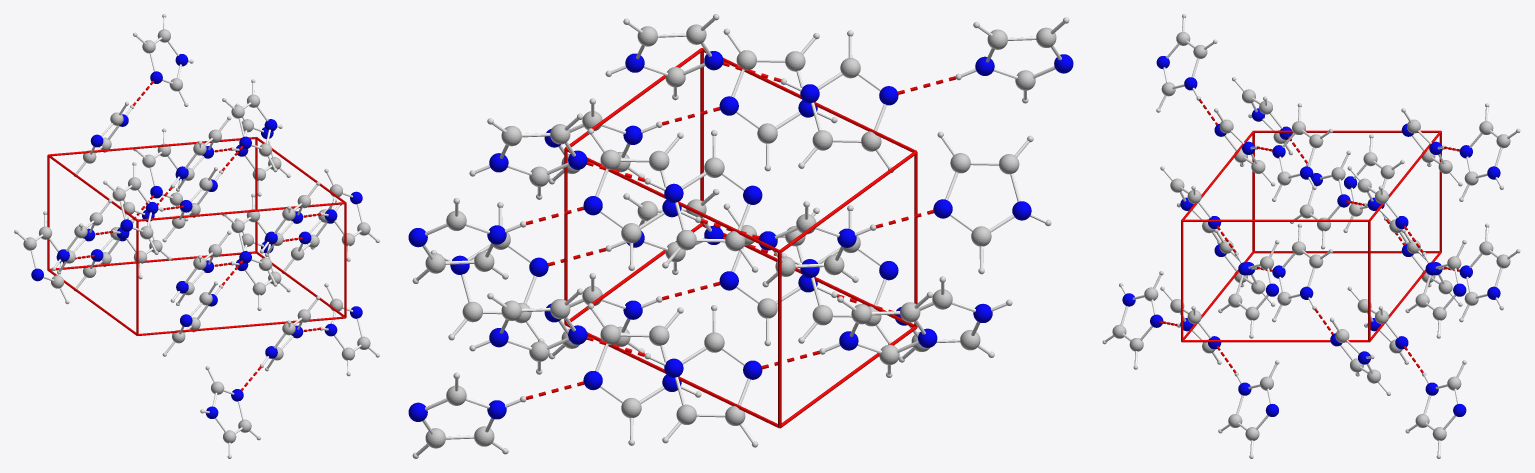
Rendered from Imidazol.glb.
3 views of the same model, side by side, from view 1: azimuth 30°, elevation 25°; view 2: azimuth 150°, elevation 25°; view 3: azimuth 270°, elevation 25° (orthographic). The views are drawn at different scales.
Parts seen in each view (by area): view 1: Bond.8, Bond.11, Bond.10, Bond.6; view 2: Bond.10, Bond.6, Bond.11, Bond.13, Bond.15; view 3: Bond.9, Bond.4, Bond.15, Bond.12.
Boxes of the visible parts, <box> form: Bond.8: <box>137,316,345,335</box>; Bond.11: <box>137,202,345,221</box>; Bond.10: <box>49,137,255,156</box>; Bond.6: <box>50,251,255,270</box>; Bond.10: <box>564,147,779,252</box>; Bond.6: <box>564,323,779,428</box>; Bond.11: <box>702,48,916,152</box>; Bond.13: <box>778,252,781,427</box>; Bond.15: <box>780,151,917,252</box>; Bond.9: <box>1182,219,1369,221</box>; Bond.4: <box>1182,340,1368,342</box>; Bond.15: <box>1254,130,1440,132</box>; Bond.12: <box>1254,251,1439,253</box>.
Size of the model in its own units: 17.09 by 12.88 by 16.92.
